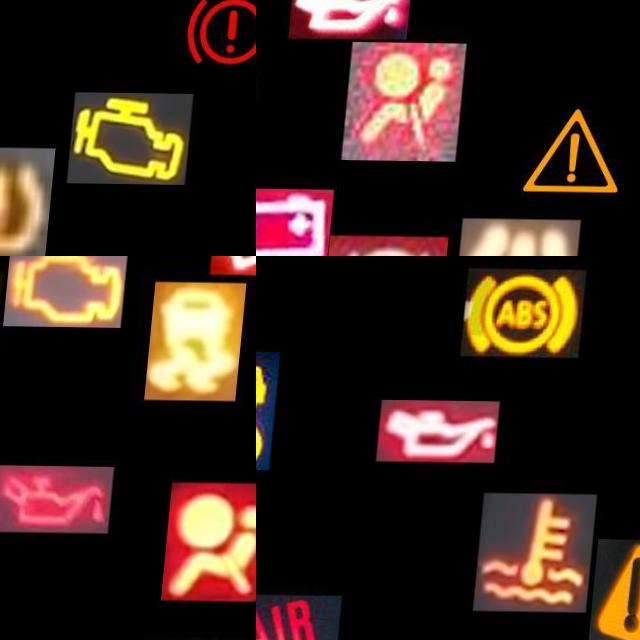Central Warning lamp: (516, 89, 640, 209), (595, 537, 640, 640)
Engine cooling system: (480, 492, 602, 611)
